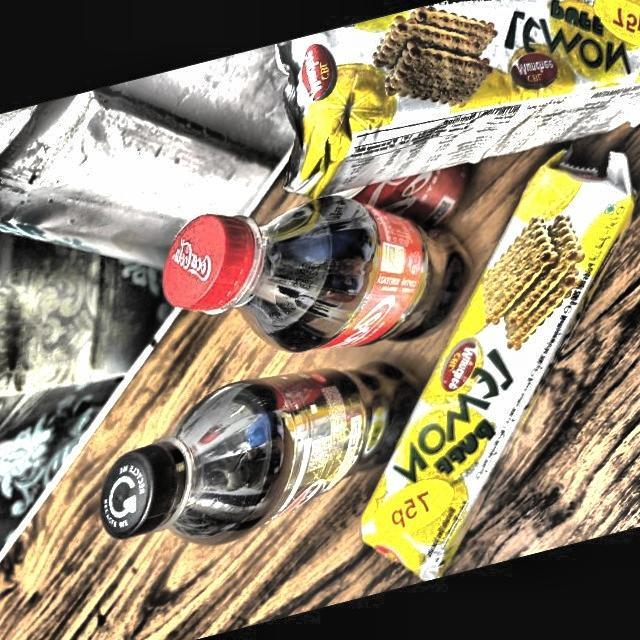coke-bottle: (163, 209, 464, 346)
coke-can: (346, 153, 472, 229)
lemon puff: (363, 140, 631, 577), (300, 0, 640, 186)
pepsi-bottle: (92, 377, 404, 547)
